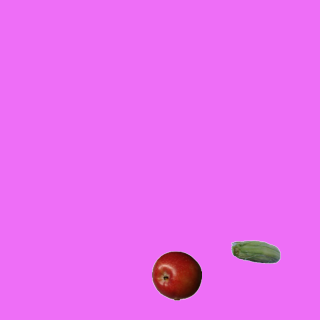Apple Braeburn: (151, 250, 201, 300)
Corn Husk: (230, 228, 280, 278)
